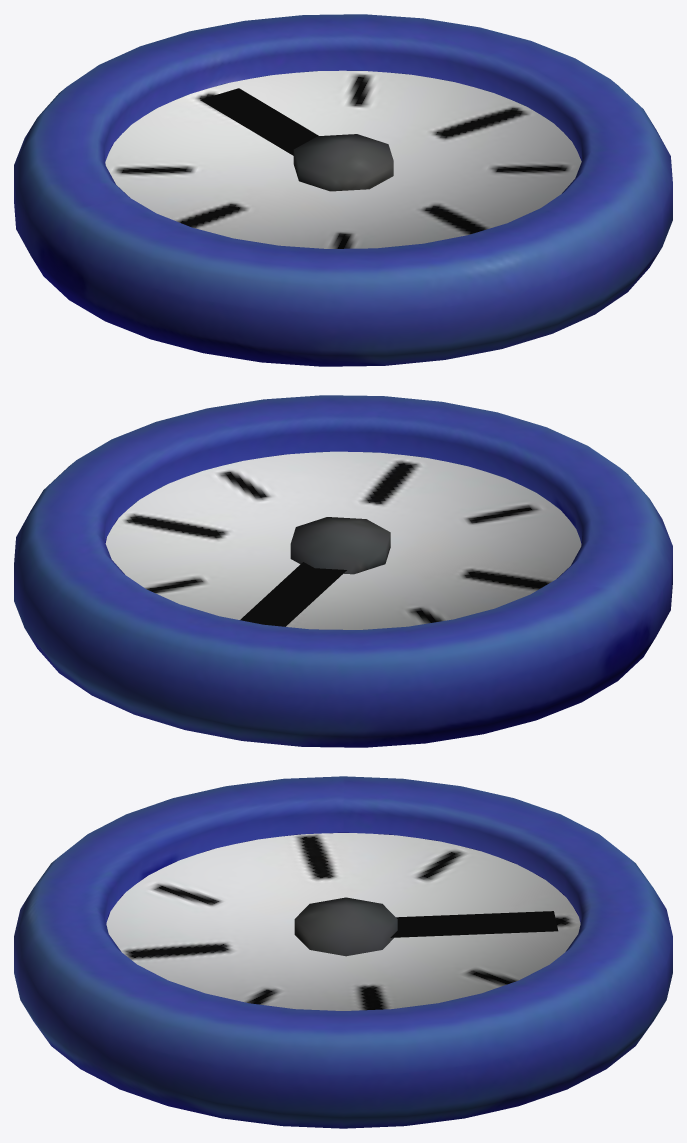
Rendered from reloj.fbx.
The picture shows the model from 3 angles, top to bottom: view 1: azimuth 30°, elevation 25°; view 2: azimuth 150°, elevation 25°; view 3: azimuth 270°, elevation 25°; orthographic projection.
Parts seen in each view (by area): view 1: defaultMaterial.005, defaultMaterial.004, defaultMaterial.003, defaultMaterial.002; view 2: defaultMaterial.005, defaultMaterial.004, defaultMaterial.003, defaultMaterial.002; view 3: defaultMaterial.005, defaultMaterial.004, defaultMaterial.003, defaultMaterial.002.
Part boxes in pixels (x1,y1,x2,y2): defaultMaterial.005: (14, 14, 672, 366); defaultMaterial.004: (105, 70, 581, 248); defaultMaterial.003: (293, 134, 393, 191); defaultMaterial.002: (200, 88, 318, 155); defaultMaterial.005: (14, 395, 672, 747); defaultMaterial.004: (105, 451, 581, 629); defaultMaterial.003: (290, 517, 390, 574); defaultMaterial.002: (240, 562, 346, 626); defaultMaterial.005: (14, 776, 672, 1128); defaultMaterial.004: (106, 833, 580, 1010); defaultMaterial.003: (294, 897, 397, 956); defaultMaterial.002: (390, 911, 558, 937).
Size of the model in its own units: 41.59 by 6.25 by 41.59.
Materials: 4 (4 with a texture image).
